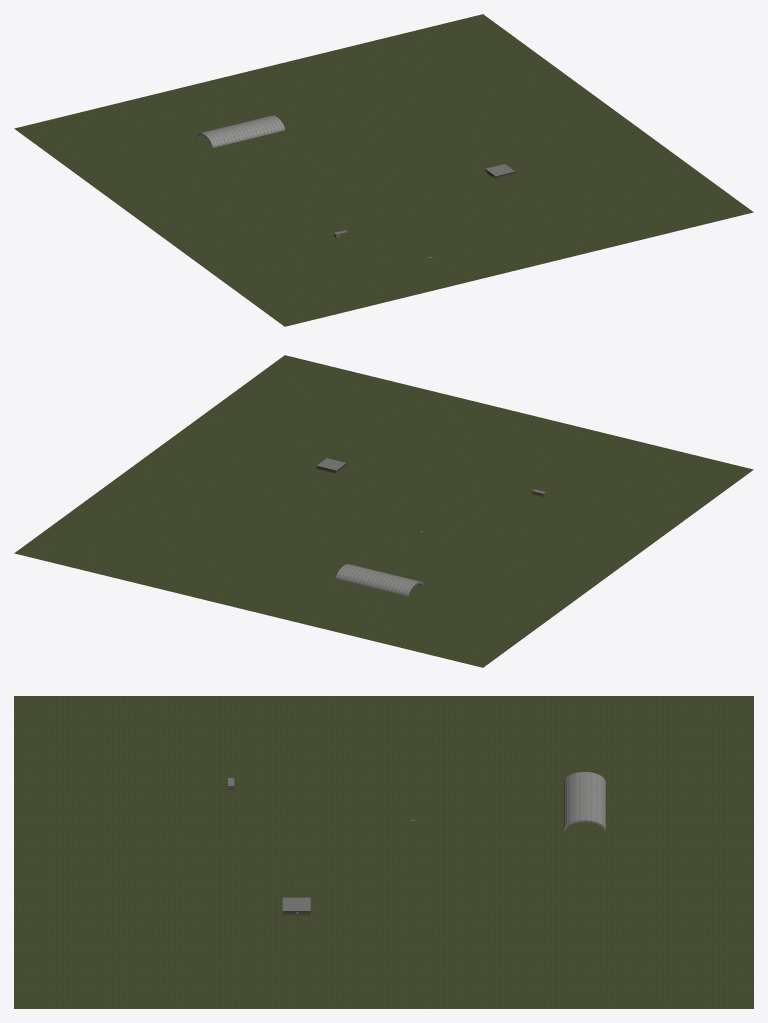
Rendered from world.glb.
3 renders of one model, top to bottom at view 1: azimuth 30°, elevation 25°; view 2: azimuth 150°, elevation 25°; view 3: azimuth 270°, elevation 25°, orthographic. The views are drawn at different scales.
Visible parts, largest first — view 1: grassfloor002a_3, concreteceiling001a_4; view 2: grassfloor002a_3, concreteceiling001a_4; view 3: grassfloor002a_3, concreteceiling001a_4.
Boxes of the visible parts, <box> form: grassfloor002a_3: <box>14,14,753,326</box>; concreteceiling001a_4: <box>197,115,284,147</box>; grassfloor002a_3: <box>14,355,753,667</box>; concreteceiling001a_4: <box>336,564,423,596</box>; grassfloor002a_3: <box>14,696,753,1008</box>; concreteceiling001a_4: <box>563,772,605,830</box>.
Bounding box in the file's own units: 429 × 9.53 × 429.
Materials: 16 (14 with a texture image).
